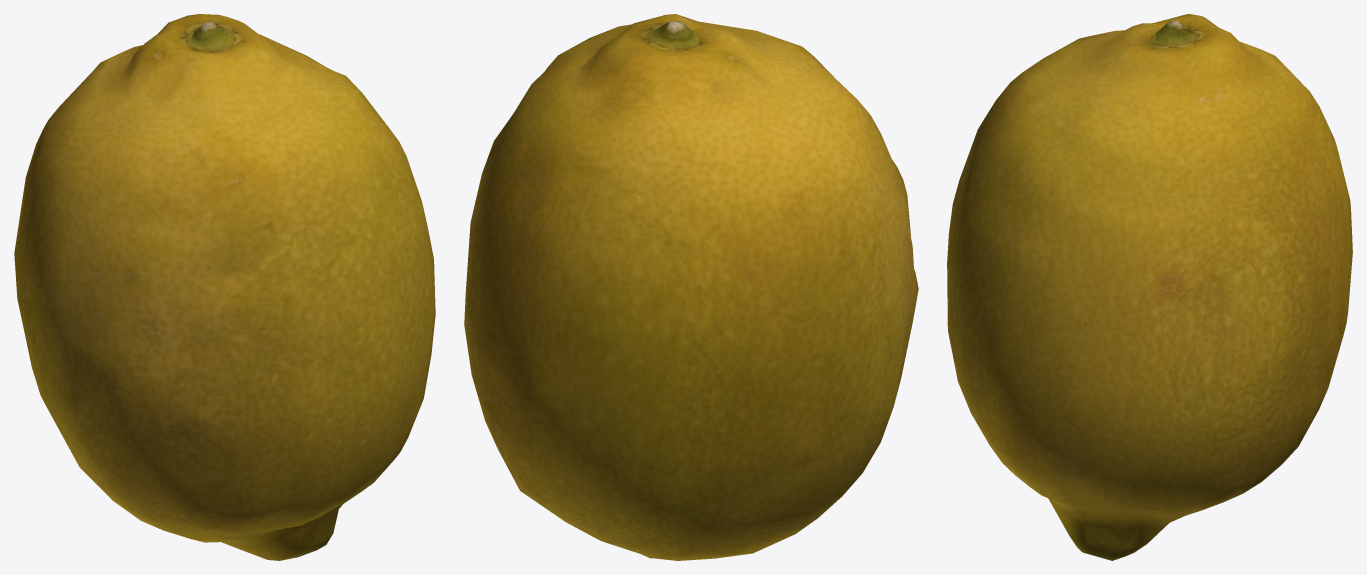
File: prod_lemon.glb
The picture shows the model from 3 angles, left to right: view 1: azimuth 30°, elevation 25°; view 2: azimuth 150°, elevation 25°; view 3: azimuth 270°, elevation 25°; orthographic projection. The views are drawn at different scales.
Visible parts, largest first — view 1: lemon; view 2: lemon; view 3: lemon.
Boxes of the visible parts, x1,y1,x2,y2 form: lemon: (14, 14, 435, 560); lemon: (464, 14, 918, 560); lemon: (947, 14, 1352, 560).
Bounding box in the file's own units: 0.0686 × 0.0953 × 0.0682.
1 material, 1 textured.
